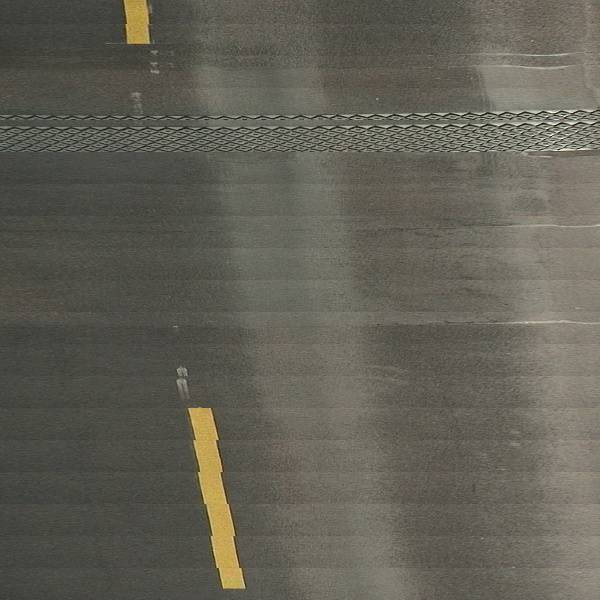road_damage: (4, 121, 600, 163), (380, 206, 597, 241), (338, 315, 587, 338), (404, 47, 590, 74), (446, 249, 511, 316)
